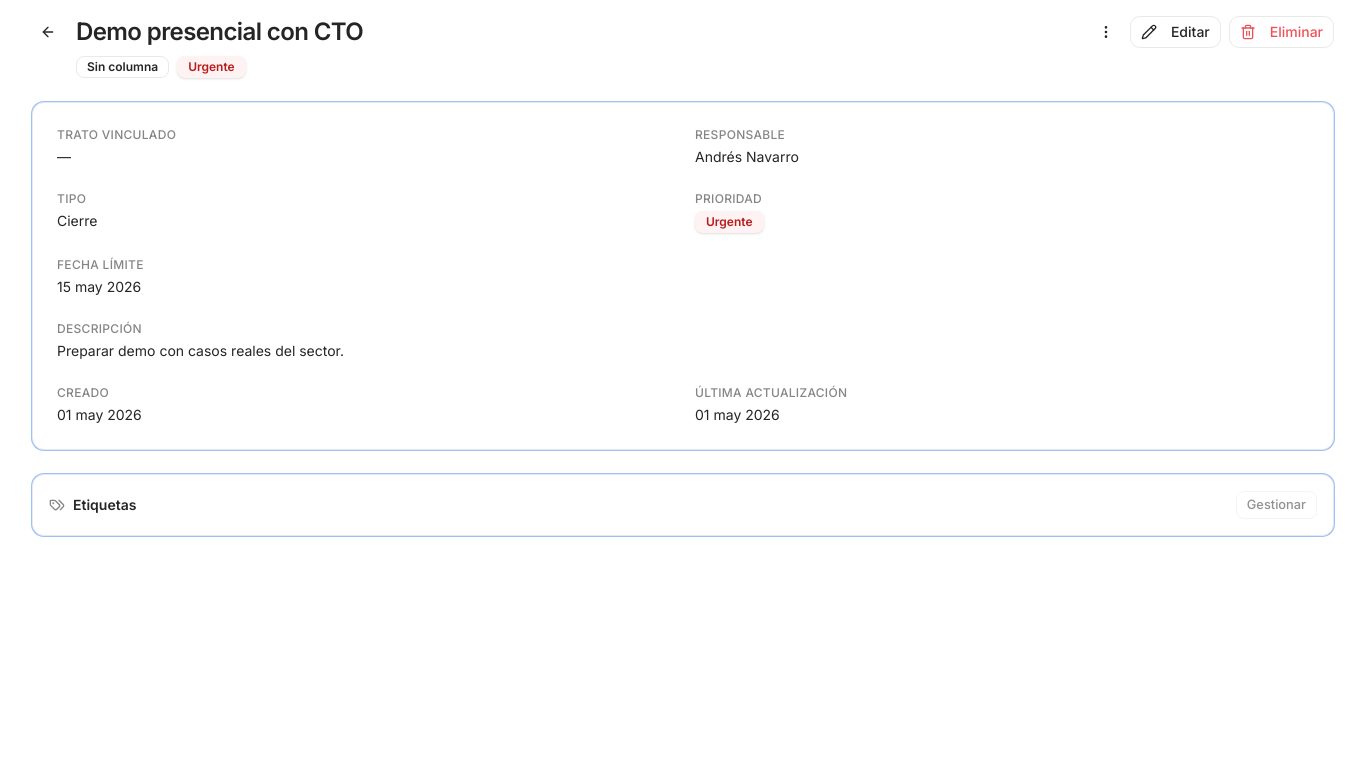
Test: TareaDetailPage — acciones › (f) clic "Eliminar" abre AlertDialog de confirmación
Expected: the heading "Demo presencial con CTO" is shown, left=76, top=16, right=363, bottom=48
Click the button "Eliminar": (1281, 32) left=1229, top=16, right=1334, bottom=48
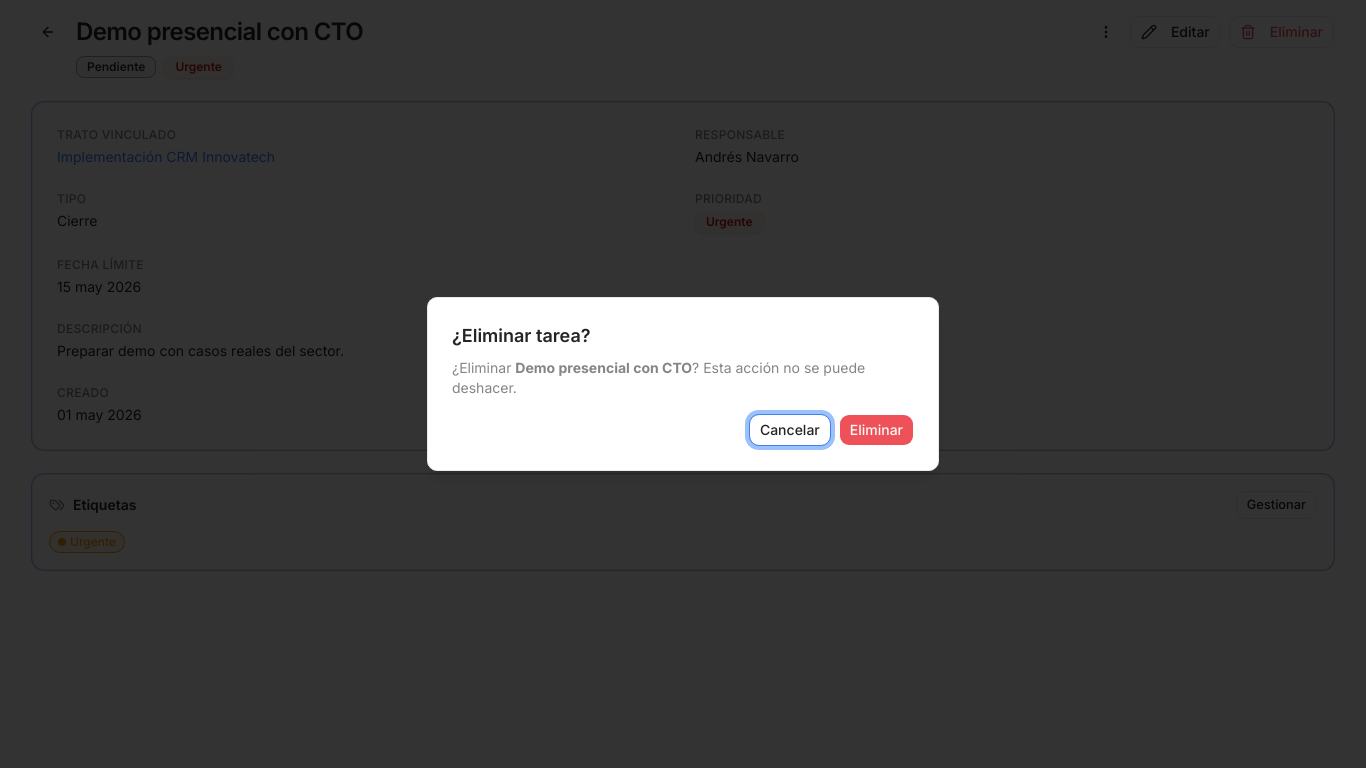
Result: the dialog is shown at left=427, top=297, right=939, bottom=471
